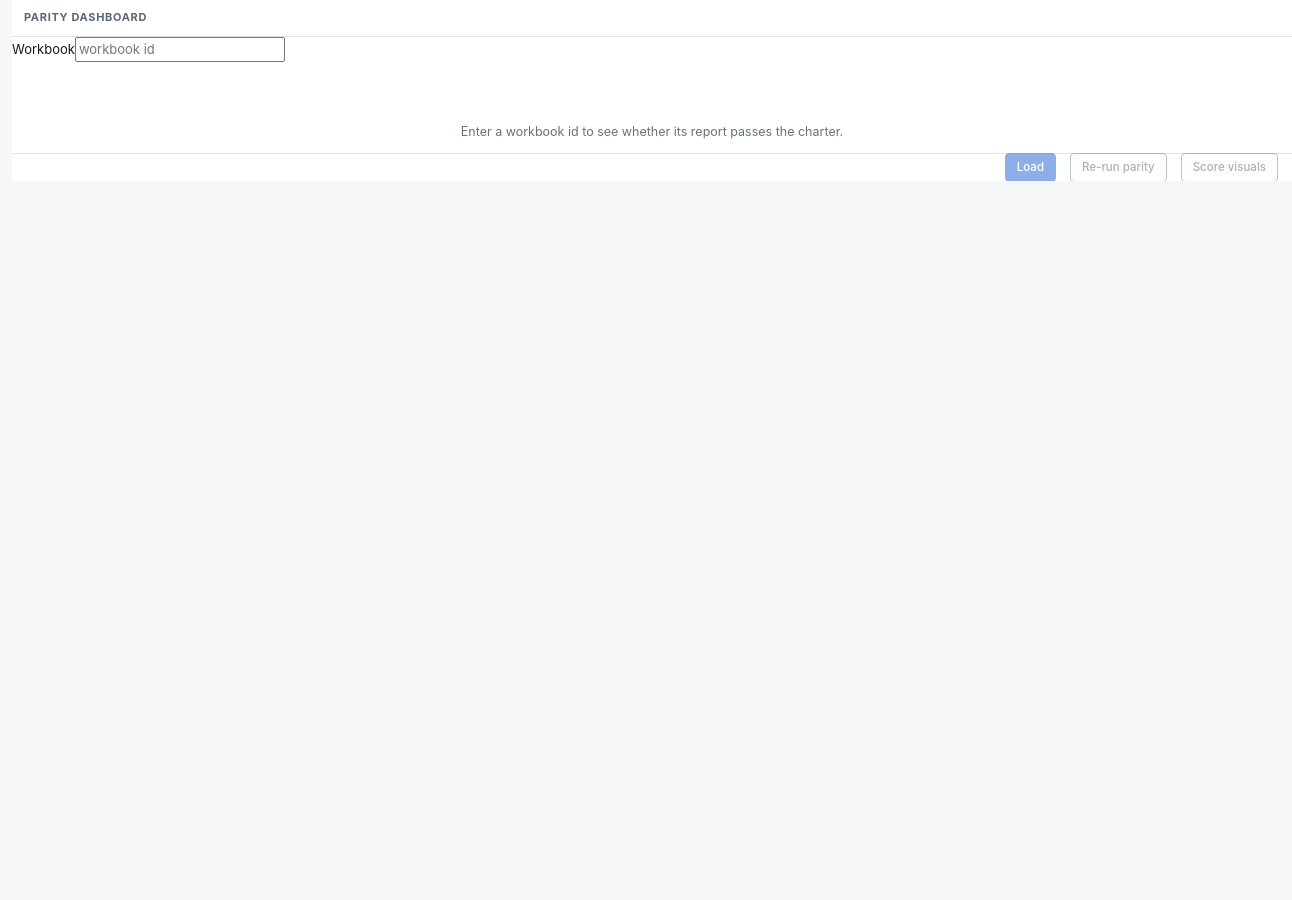
re-running › lets the parity engineer re-run and reports the fresh counts
Type "01ARZ3NDEKTSV4RRFFQ69G5FAV" into the field labelled "Workbook". click: coordinates (180, 49)
box: [75,37,285,62]
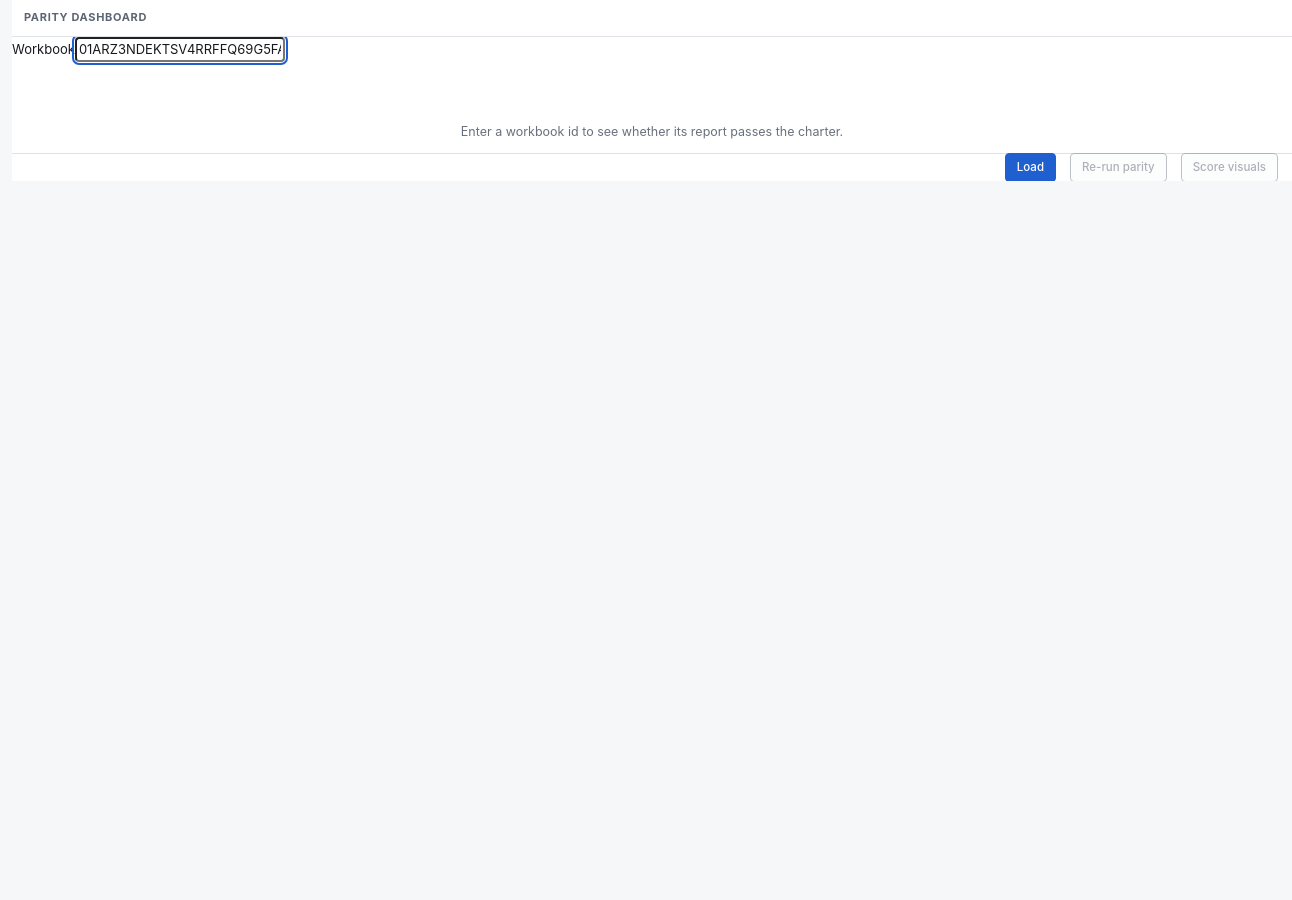
Click the button "Load". click: coordinates (1030, 167)
box: [1005,153,1056,182]
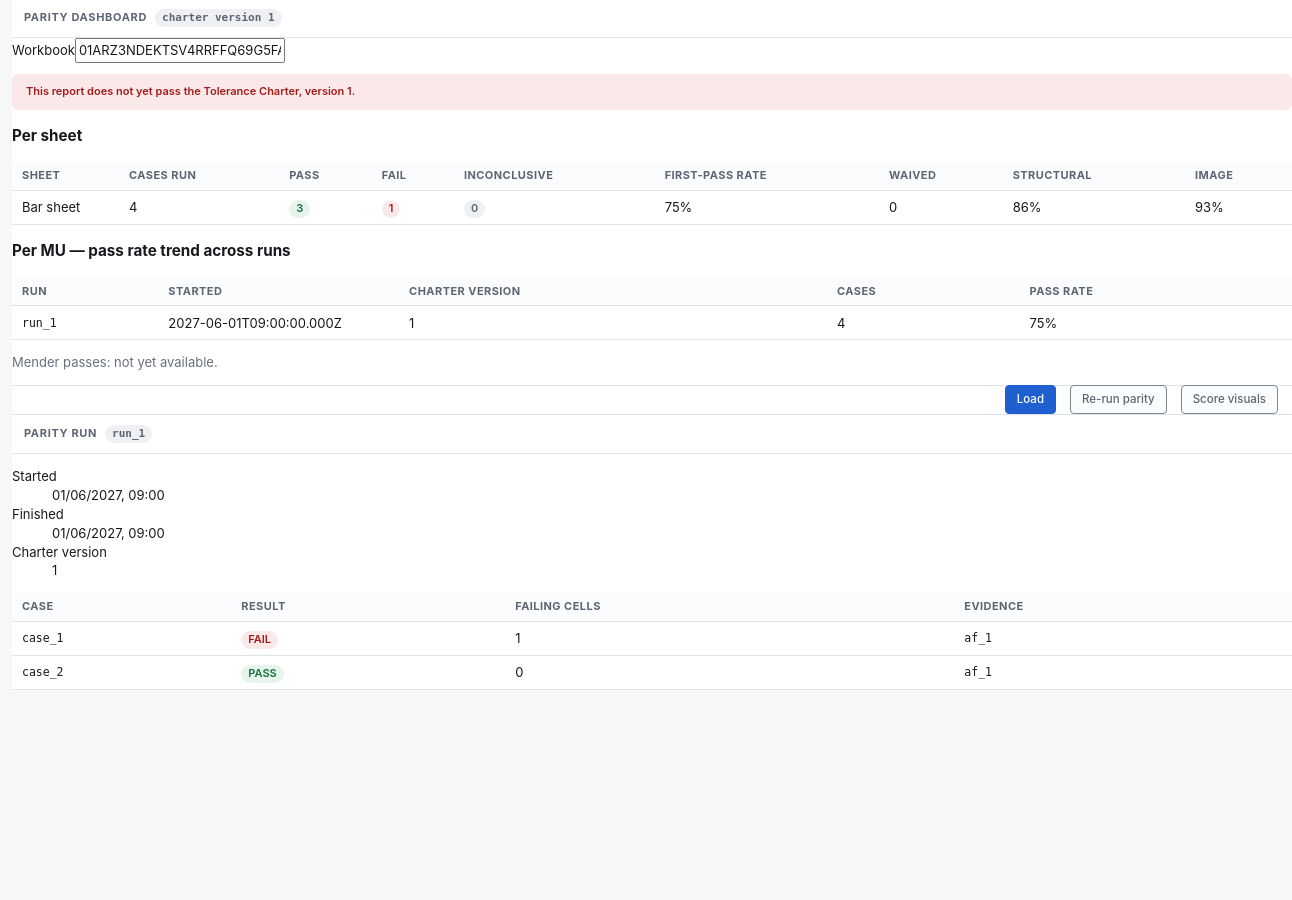
Click the button "Re-run parity". click: coordinates (1118, 400)
box: [1070,386,1167,414]
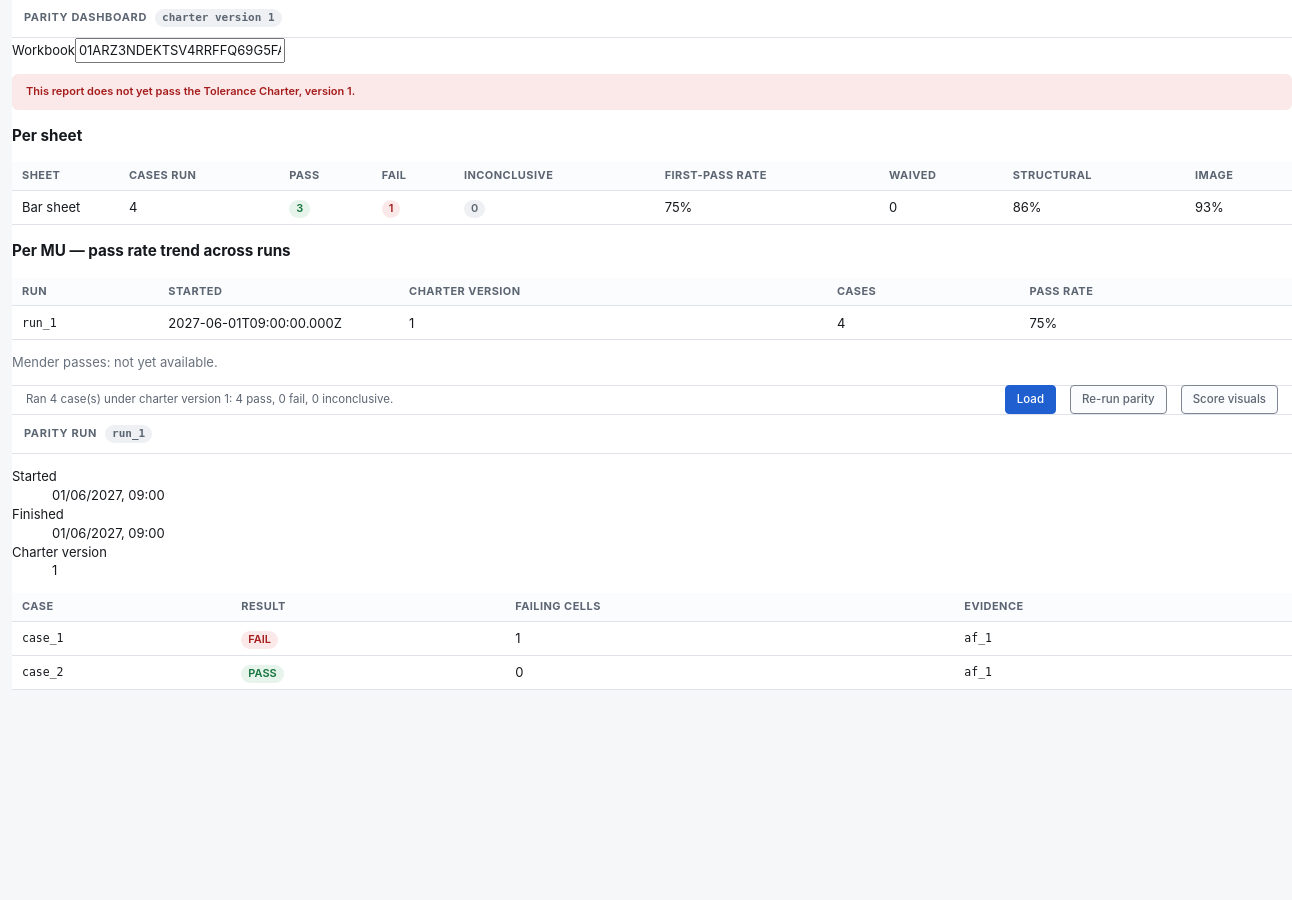
Expected: the text "Ran 4 case(s) under charter version 1: 4 pass, 0 fail, 0 inconclusive." is shown, [26,392,393,408]
